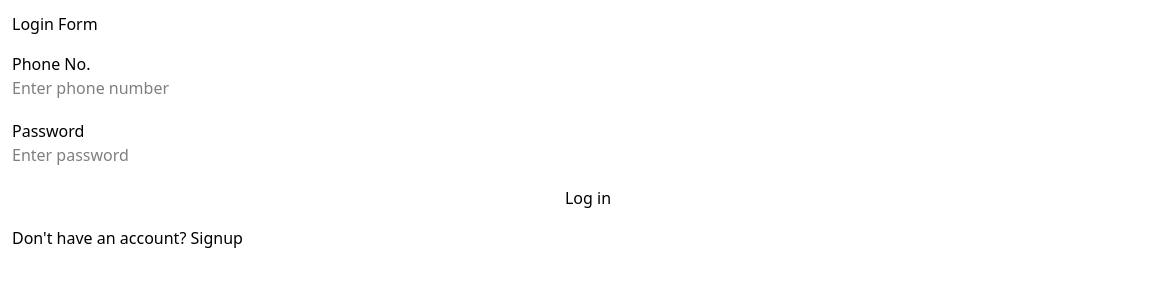
Login Component › shows validation error when phone number is invalid
The width and height of the screenshot is (1176, 289).
Type "123" into the field labelled "Phone No.".
click(128, 88); type("123")  # box [12,76,243,100]
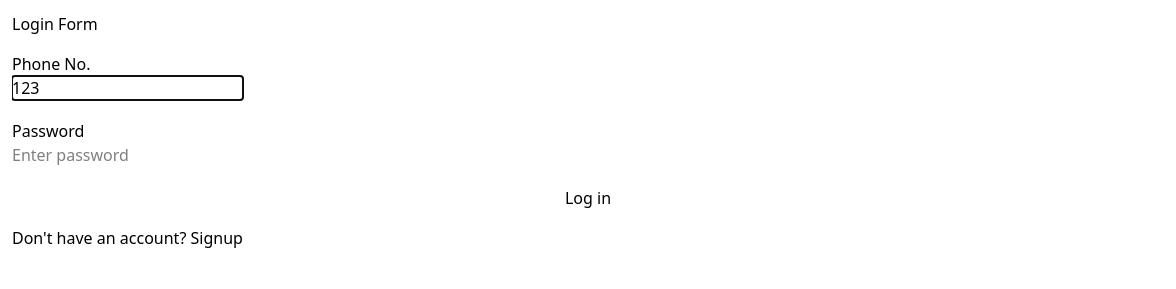
Type "password123" into the password field labelled "Password".
click(128, 155); type("password123")  # box [12,143,243,167]
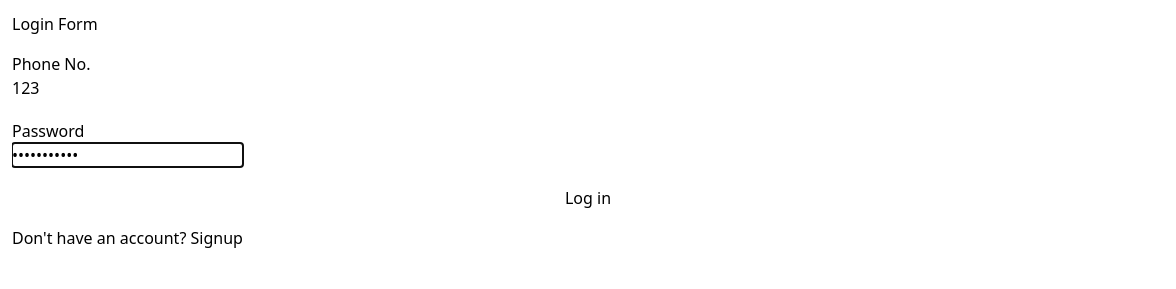
Click the button "Log in".
click(588, 198)  # box [12,186,1164,210]
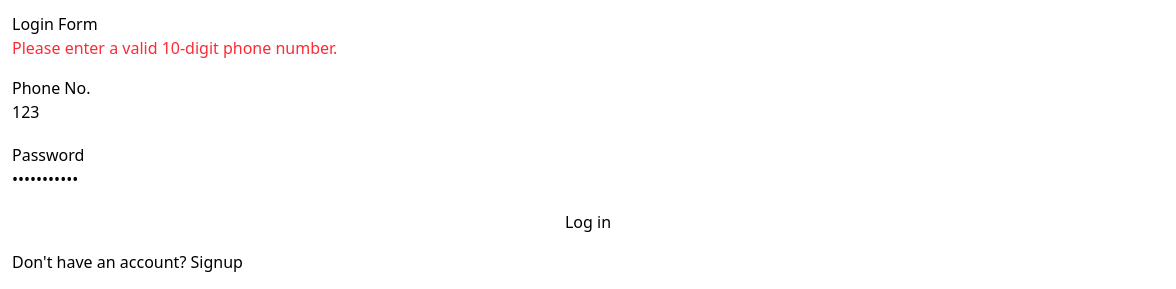
Expected: the text "Please enter a valid 10-digit phone number." is shown, [12,37,337,59]
